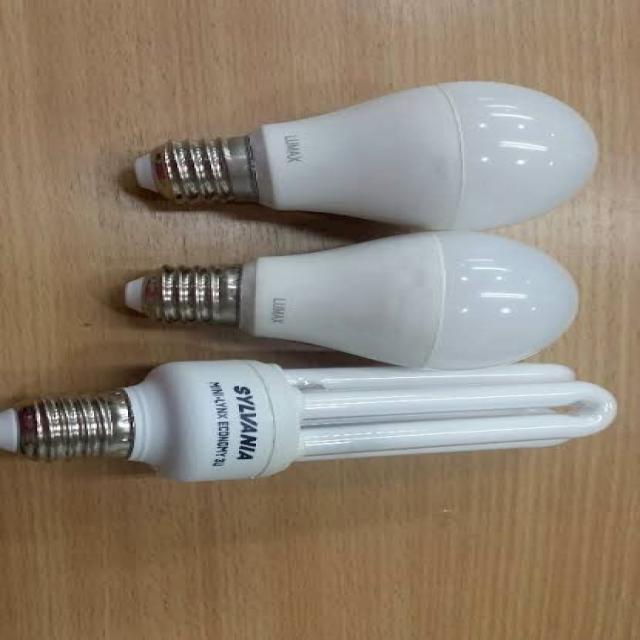bulb: (4, 359, 640, 488), (128, 84, 605, 230), (117, 230, 586, 360)
